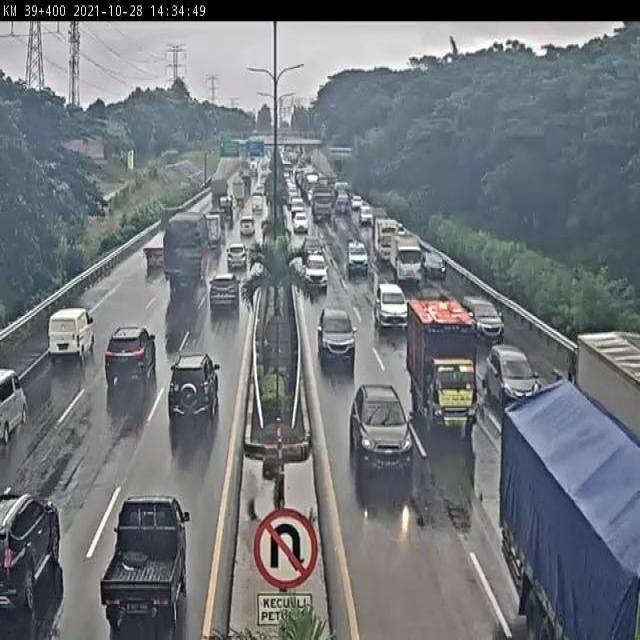big truck: (499, 380, 640, 640), (575, 328, 640, 445), (162, 209, 213, 292)
car: (99, 493, 190, 632), (0, 481, 66, 616), (351, 385, 414, 484), (165, 350, 221, 430), (485, 339, 547, 408), (100, 324, 157, 396), (42, 304, 98, 365), (0, 364, 31, 449), (373, 274, 413, 334), (314, 307, 355, 364), (464, 296, 503, 344), (209, 270, 242, 318), (298, 249, 330, 295), (418, 244, 449, 283), (224, 240, 252, 276), (344, 240, 371, 277), (235, 216, 258, 245), (291, 209, 313, 239)
small truck: (406, 304, 476, 432), (144, 204, 177, 275), (389, 232, 426, 287), (370, 215, 404, 260), (198, 216, 221, 255)
